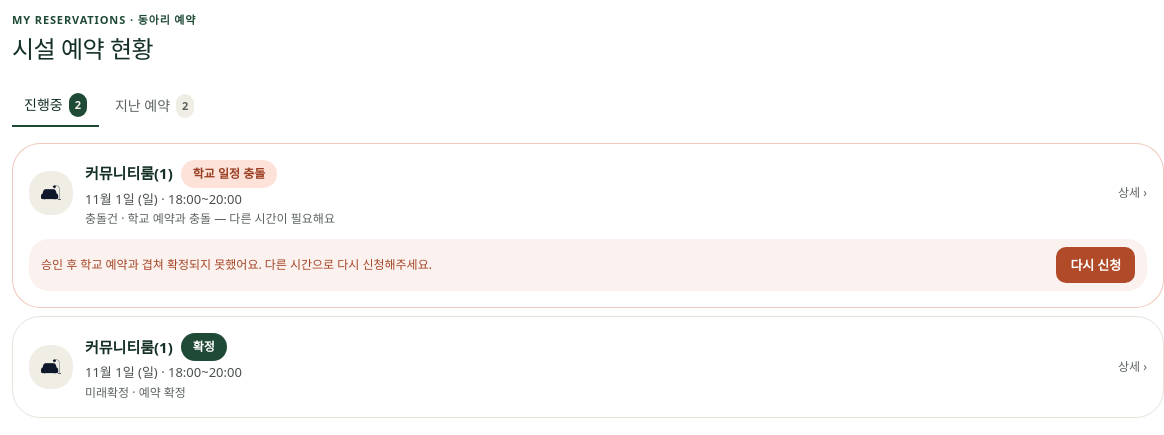
FacilityBookingsView › 2탭이 진행중/지난 예약으로 분류한다 — 진행중=PENDING·CONFLICT·미래 CONFIRMED, 지난=과거 CONFIRMED·CANCELLED
Expected: the text "충돌건 · 학교 예약과 충돌 — 다른 시간이 필요해요" is shown, [85, 210, 335, 227]
Expected: the text "미래확정 · 예약 확정" is shown, [85, 384, 186, 400]
Click the tab "지난 예약 2" at (155, 106), box [103, 84, 206, 126]
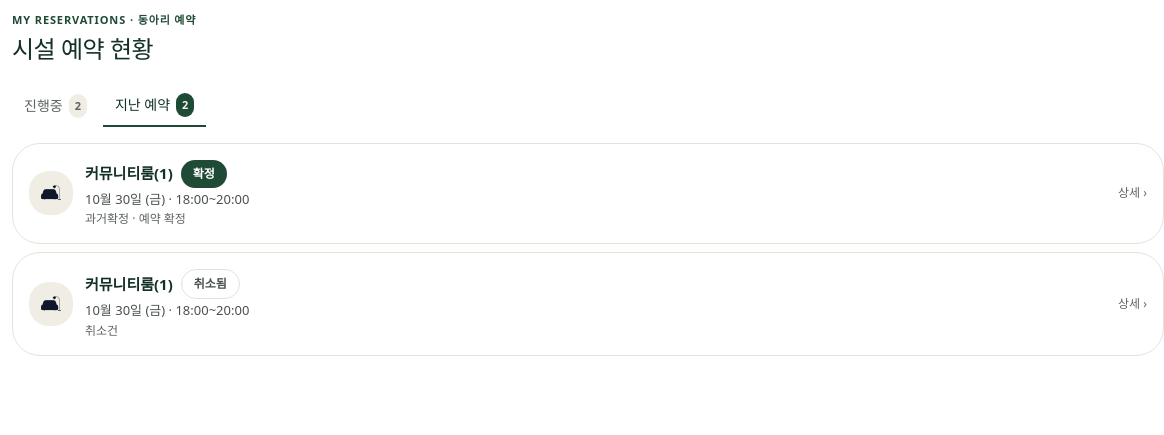
Now the text "과거확정 · 예약 확정" is shown, box [85, 210, 186, 227]
Now the text "취소건" is shown, box [85, 322, 118, 338]
Now the button "미래확정" is gone
